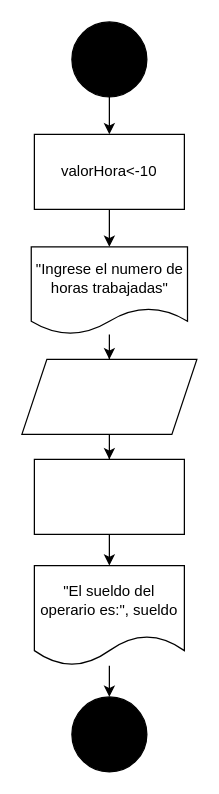
The diagram is 219 pixels wide and 794 high, and some of its shapes have lost their labels. The centre of each missing label's shape, as x and y in pixels:
"horasTrabajadas" goes at (x=109, y=396).
"sueldo<-valorHora * horasTrabajadas" goes at (x=108, y=496).
